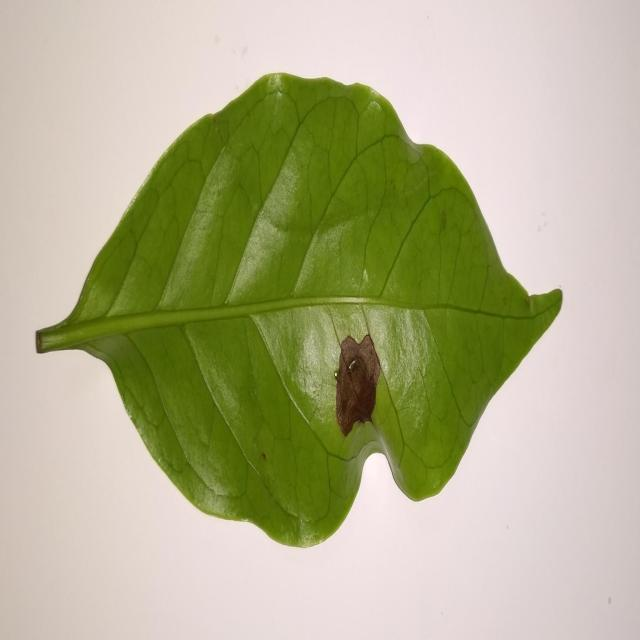Enfermedad-Antracnosis: (33, 73, 564, 551)
